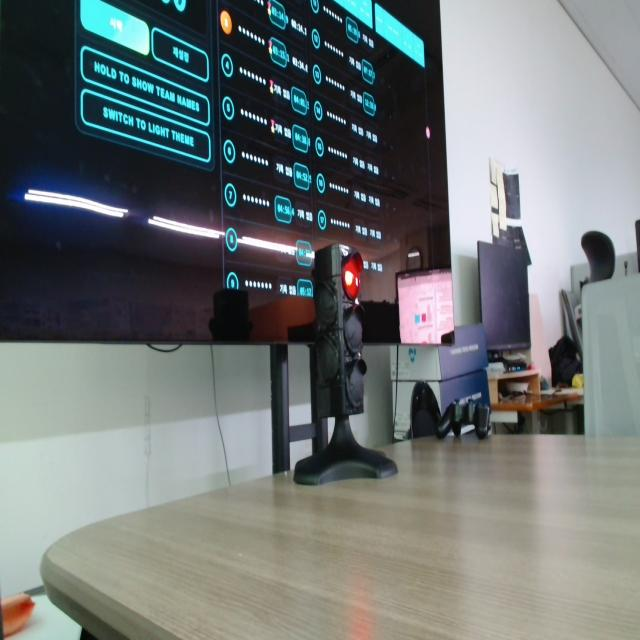red_light: (343, 253, 363, 301)
